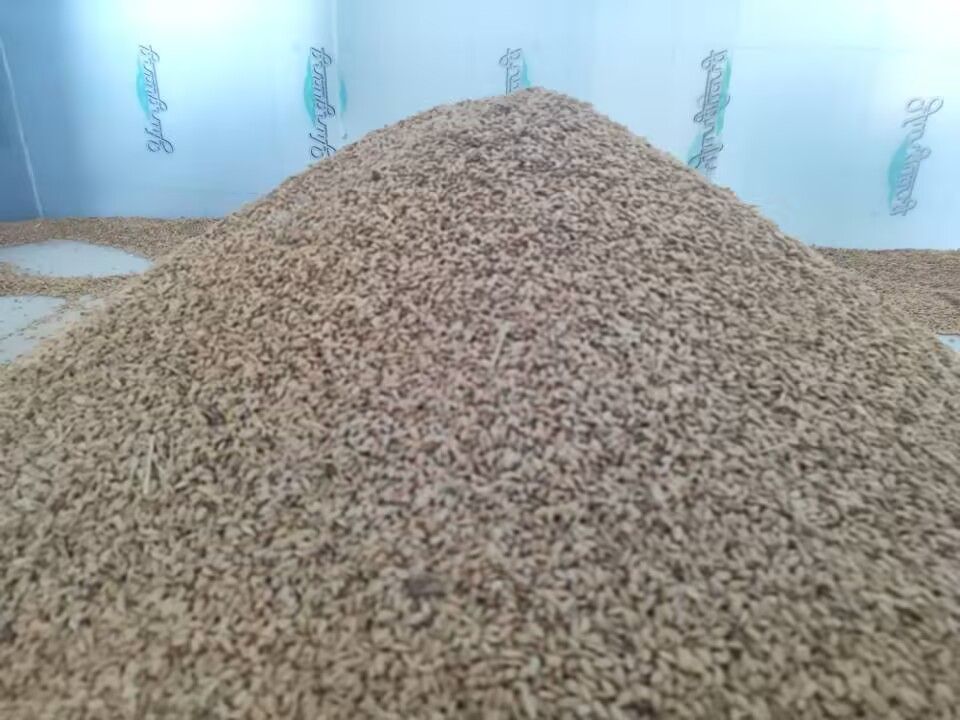Grain: (94, 82, 941, 674)
